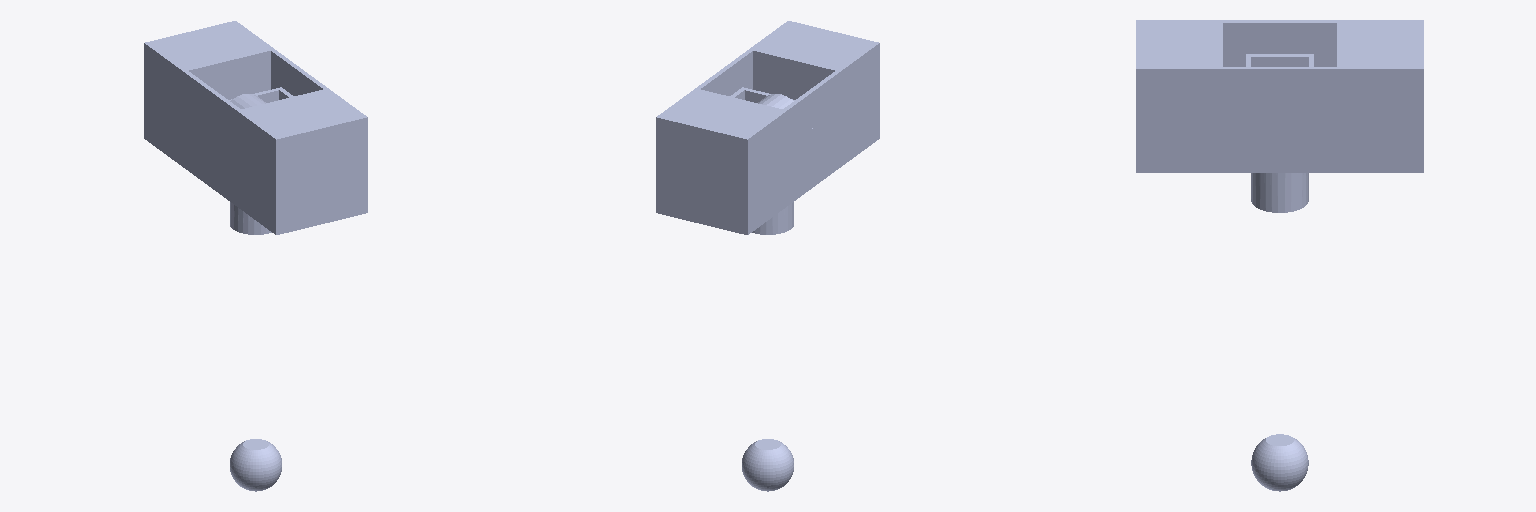
robot.urdf — slip:
<?xml version="1.0" encoding="utf-8"?>
<!-- This URDF was automatically created by SolidWorks to URDF Exporter! Originally created by
[author] ([email redacted]) 
     Commit Version: 1.6.0-4-g7f85cfe  Build Version: 1.6.7995.38578
     For more information, please see http://wiki.ros.org/sw_urdf_exporter -->
<robot
    name="slip">
    <link
        name="base_link">
        <inertial>
            <origin
                xyz="-9.3513E-18 2.137E-17 0"
                rpy="0 0 0" />
            <!-- <mass
                value="23.6" /> -->
            <mass value="12.761" />
            <inertia
                ixx="0.43532"
                ixy="3.881E-17"
                ixz="-9.2802E-18"
                iyy="0.089532"
                iyz="-2.1286E-18"
                izz="0.43953" />
        </inertial>
        <visual>
            <origin
                xyz="0 0 0"
                rpy="0 0 0" />
            <geometry>
                <mesh
                    filename="package://slip/meshes/base_link.STL" />
            </geometry>
            <material
                name="">
                <color
                    rgba="0.79216 0.81961 0.93333 1" />
            </material>
        </visual>
        <collision>
            <origin
                xyz="0 0 0"
                rpy="0 0 0" />
            <geometry>
                <mesh
                    filename="package://slip/meshes/base_link.STL" />
            </geometry>
        </collision>
    </link>
    <link
        name="link1">
        <inertial>
            <origin
                xyz="7.2774E-16 3.7304E-17 2.7756E-17"
                rpy="0 0 0" />
            <mass
                value="0.002" />
            <inertia
                ixx="0.001133"
                ixy="8.7857E-19"
                ixz="-4.1776E-18"
                iyy="0.0025494"
                iyz="-4.4149E-20"
                izz="0.0032044" />
        </inertial>
        <visual>
            <origin
                xyz="0 0 0"
                rpy="0 0 0" />
            <geometry>
                <mesh
                    filename="package://slip/meshes/link1.STL" />
            </geometry>
            <material
                name="">
                <color
                    rgba="0.79216 0.81961 0.93333 1" />
            </material>
        </visual>
        <collision>
            <origin
                xyz="0 0 0"
                rpy="0 0 0" />
            <geometry>
                <mesh
                    filename="package://slip/meshes/link1.STL" />
            </geometry>
        </collision>
    </link>
    <joint
        name="joint1"
        type="revolute">
        <origin
            xyz="0 0 0"
            rpy="0 0 0" />
        <parent
            link="base_link" />
        <child
            link="link1" />
        <axis
            xyz="-1 0 0" />
        <limit
            lower="-3.14"
            upper="3.14"
            effort="10000"
            velocity="5" />
    </joint>
    <link
        name="link2">
        <inertial>
            <origin
                xyz="-1.3375E-08 -2.518E-08 -0.063872"
                rpy="0 0 0" />
            <!-- <mass
                value="0.005" /> -->
            <mass value="1.7676" />
            <inertia
                ixx="0.01034"
                ixy="-2.2581E-09"
                ixz="-2.4133E-10"
                iyy="0.010119"
                iyz="3.1353E-09"
                izz="0.0027532" />
        </inertial>
        <visual>
            <origin
                xyz="0 0 0"
                rpy="0 0 0" />
            <geometry>
                <mesh
                    filename="package://slip/meshes/link2.STL" />
            </geometry>
            <material
                name="">
                <color
                    rgba="0.79216 0.81961 0.93333 1" />
            </material>
        </visual>
        <collision>
            <origin
                xyz="0 0 0"
                rpy="0 0 0" />
            <geometry>
                <mesh
                    filename="package://slip/meshes/link2.STL" />
            </geometry>
        </collision>
    </link>
    <joint
        name="joint2"
        type="revolute">
        <origin
            xyz="0 0 0"
            rpy="0 0 0" />
        <parent
            link="link1" />
        <child
            link="link2" />
        <axis
            xyz="0 -1 0" />
        <limit
            lower="-3.14"
            upper="3.14"
            effort="10000"
            velocity="5" />
    </joint>
    <link
        name="toe">
        <inertial>
            <origin
                xyz="1.052E-16 -5.0005E-17 -0.0038948"
                rpy="0 0 0" />
            <!-- <mass
                value="0.003" /> -->
            <mass value="0.51686" />
            <inertia
                ixx="0.00050871"
                ixy="-6.5858E-22"
                ixz="1.115E-20"
                iyy="0.00050871"
                iyz="3.4755E-20"
                izz="0.00052218" />
        </inertial>
        <visual>
            <origin
                xyz="0 0 0"
                rpy="0 0 0" />
            <geometry>
                <mesh
                    filename="package://slip/meshes/toe.STL" />
            </geometry>
            <material
                name="">
                <color
                    rgba="0.79216 0.81961 0.93333 1" />
            </material>
        </visual>
        <collision>
            <origin
                xyz="0 0 0"
                rpy="0 0 0" />
            <geometry>
                <mesh
                    filename="package://slip/meshes/toe.STL" />
            </geometry>
        </collision>
    </link>
    <joint
        name="joint3"
        type="prismatic">
        <origin
            xyz="0 0 -0.7"
            rpy="0 0 0" />
        <parent
            link="link2" />
        <child
            link="toe" />
        <axis
            xyz="0 0 1" />
        <limit
            lower="-0.1"
            upper="0.7"
            effort="3000.0"
            velocity="10" />
        <dynamics
            damping="10" />
    </joint>
</robot>

--- Facts derived from the render (not from the file) ---
The picture shows the robot from 3 angles, left to right: view 1: azimuth 30°, elevation 25°; view 2: azimuth 150°, elevation 25°; view 3: azimuth 270°, elevation 25°; orthographic projection.
Robot: slip — 4 links, 3 joints (2 revolute, 1 prismatic); root link base_link; default pose: all joints at 0.
Links seen in each view (by area): view 1: base_link, toe, link2, link1; view 2: base_link, toe, link2, link1; view 3: base_link, toe, link2, link1.
Link boxes in pixels (x1=…): base_link: x1=144, y1=21, x2=367, y2=234; toe: x1=230, y1=439, x2=281, y2=491; link2: x1=230, y1=94, x2=271, y2=234; link1: x1=204, y1=87, x2=293, y2=151; base_link: x1=656, y1=21, x2=879, y2=234; toe: x1=742, y1=439, x2=793, y2=491; link2: x1=752, y1=94, x2=793, y2=234; link1: x1=730, y1=87, x2=819, y2=151; base_link: x1=1136, y1=20, x2=1423, y2=172; toe: x1=1251, y1=434, x2=1308, y2=491; link2: x1=1251, y1=173, x2=1308, y2=212; link1: x1=1246, y1=54, x2=1313, y2=133.
Size in the robot's own frame: 0.2 by 0.5 by 0.8533 metres.
Meshes: 4 distinct files referenced, 4 mesh visuals loaded (4 binary STL).
